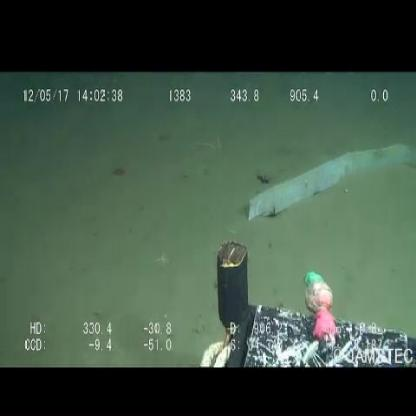Rov: (194, 235, 416, 366)
Rác: (242, 138, 416, 224)
